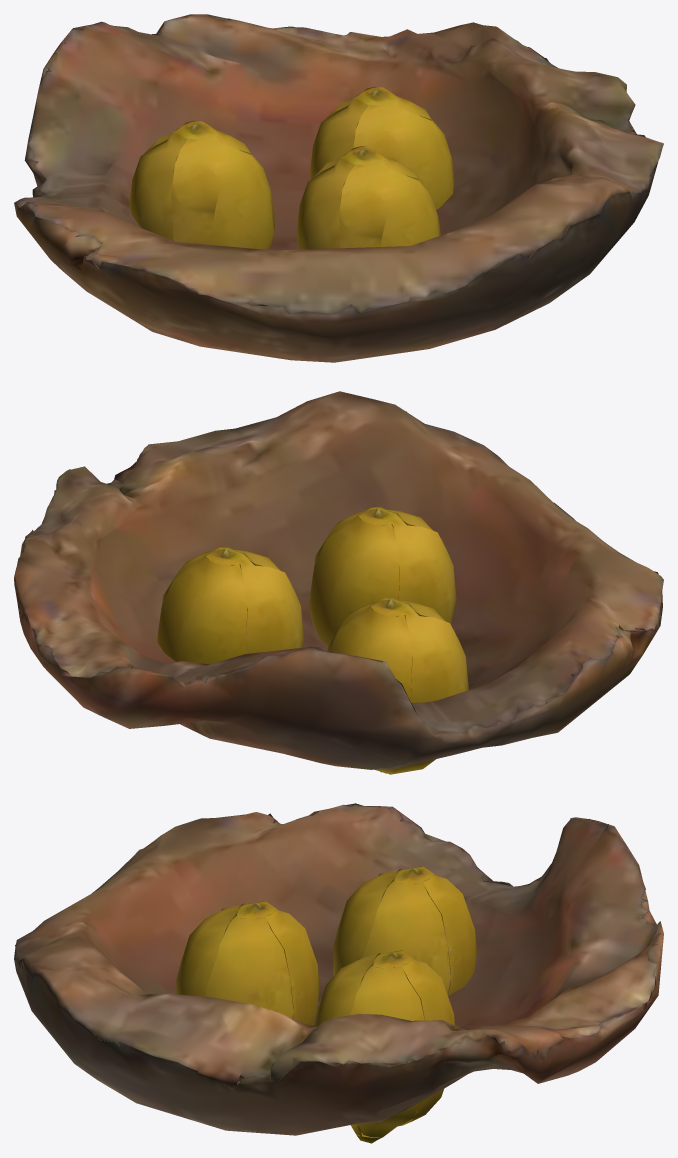
The model's file is fruit-bowl-lightweight-346ca7dcb1.glb.
The picture shows the model from 3 angles, top to bottom: view 1: azimuth 30°, elevation 25°; view 2: azimuth 150°, elevation 25°; view 3: azimuth 270°, elevation 25°; orthographic projection. The views are drawn at different scales.
Parts seen in each view (by area): view 1: wooden_bowl_01; view 2: wooden_bowl_01; view 3: wooden_bowl_01.
Boxes of the visible parts, x1,y1,x2,y2 form: wooden_bowl_01: [14, 14, 663, 362]; wooden_bowl_01: [14, 391, 663, 774]; wooden_bowl_01: [14, 803, 663, 1143].
Bounding box in the file's own units: 0.3132 × 0.1123 × 0.3097.
Materials: 4 (4 with a texture image).
